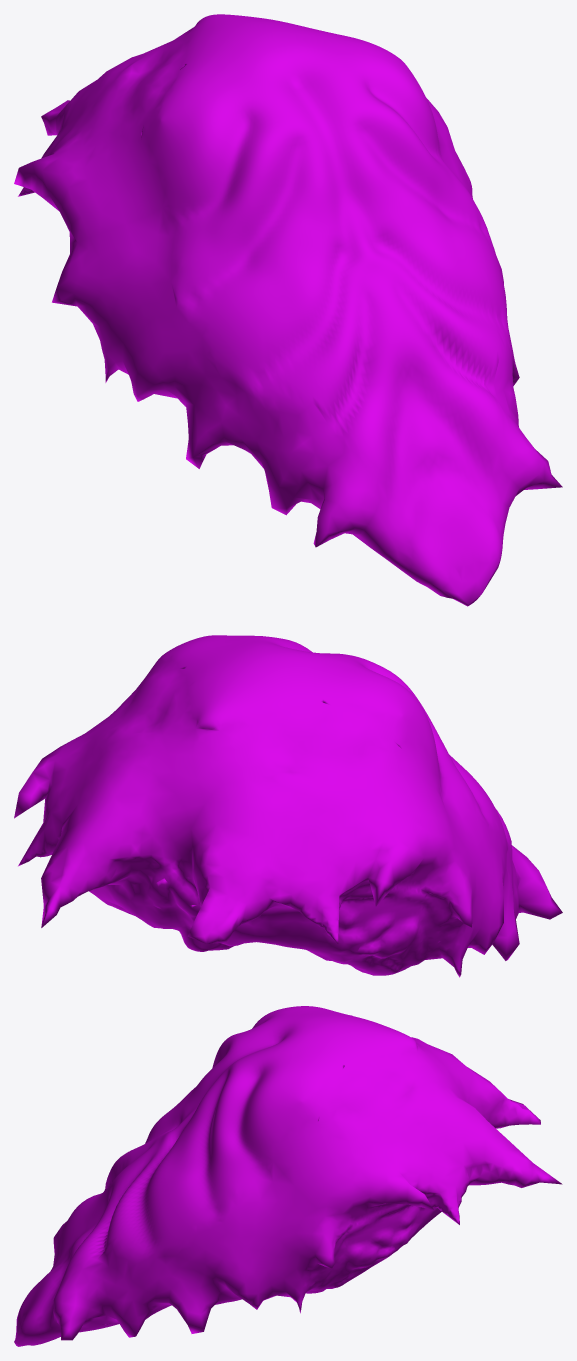
File: blobject5.glb
The picture shows the model from 3 angles, top to bottom: view 1: azimuth 30°, elevation 25°; view 2: azimuth 150°, elevation 25°; view 3: azimuth 270°, elevation 25°; orthographic projection. The views are drawn at different scales.
Parts seen in each view (by area): view 1: Quad Sphere; view 2: Quad Sphere; view 3: Quad Sphere.
Boxes of the visible parts, x1,y1,x2,y2 form: Quad Sphere: [14, 14, 562, 606]; Quad Sphere: [14, 635, 562, 977]; Quad Sphere: [14, 1006, 562, 1346].
Size of the model in its own units: 2.81 by 2.69 by 4.17.
